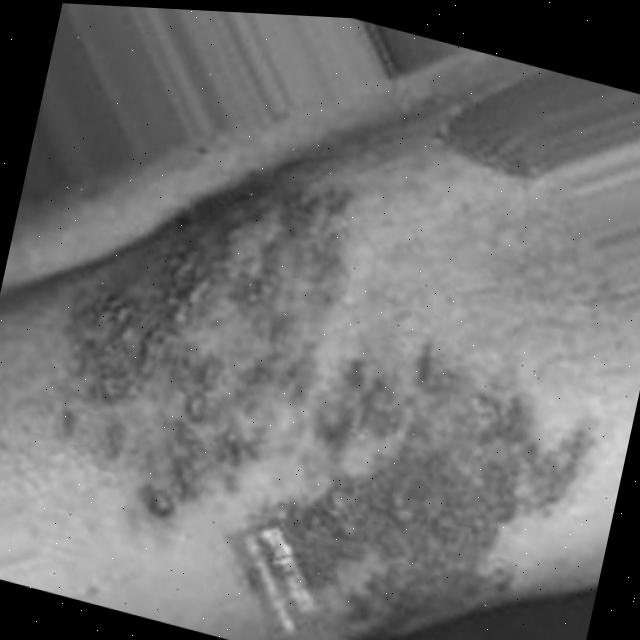Shingles: (39, 122, 367, 557), (265, 342, 606, 640)
